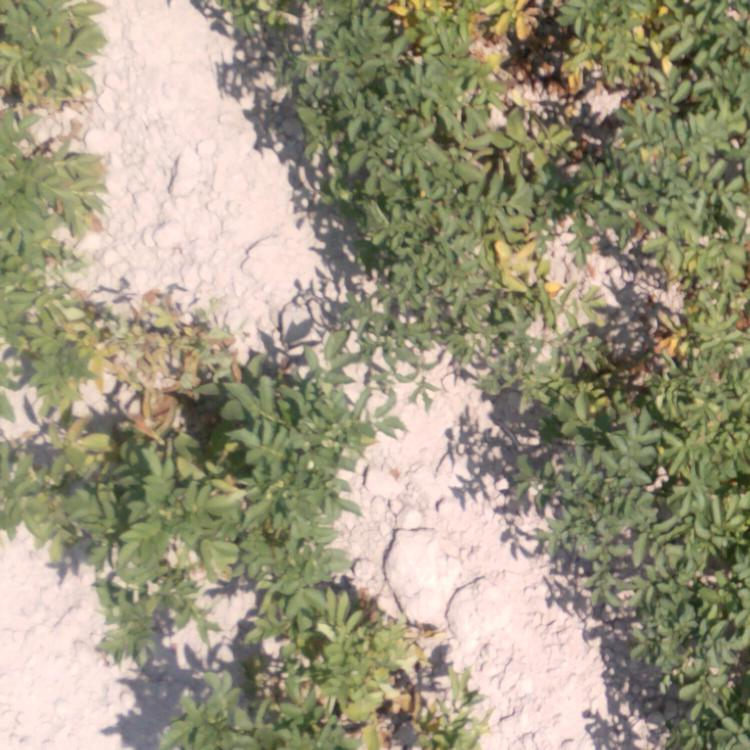healthy: (93, 472, 301, 662), (638, 439, 745, 750), (1, 2, 106, 272), (207, 1, 358, 161), (323, 163, 451, 340), (513, 438, 627, 608), (158, 663, 322, 750), (261, 339, 364, 464), (481, 350, 566, 429), (1, 472, 94, 537)
stressed: (377, 4, 739, 163), (1, 282, 247, 470), (578, 165, 735, 431), (328, 589, 481, 750), (473, 163, 578, 346)
